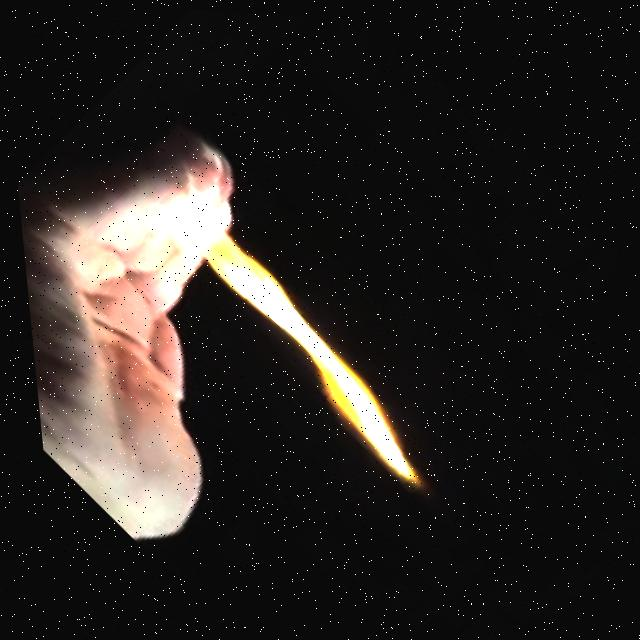Fire: (129, 174, 466, 506)
